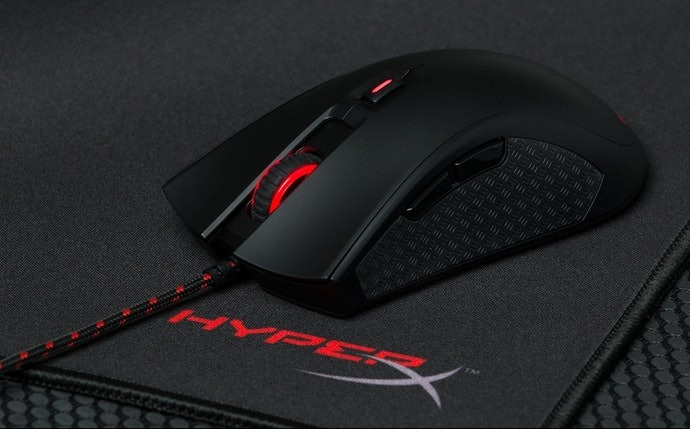mouse: (157, 39, 653, 327)
